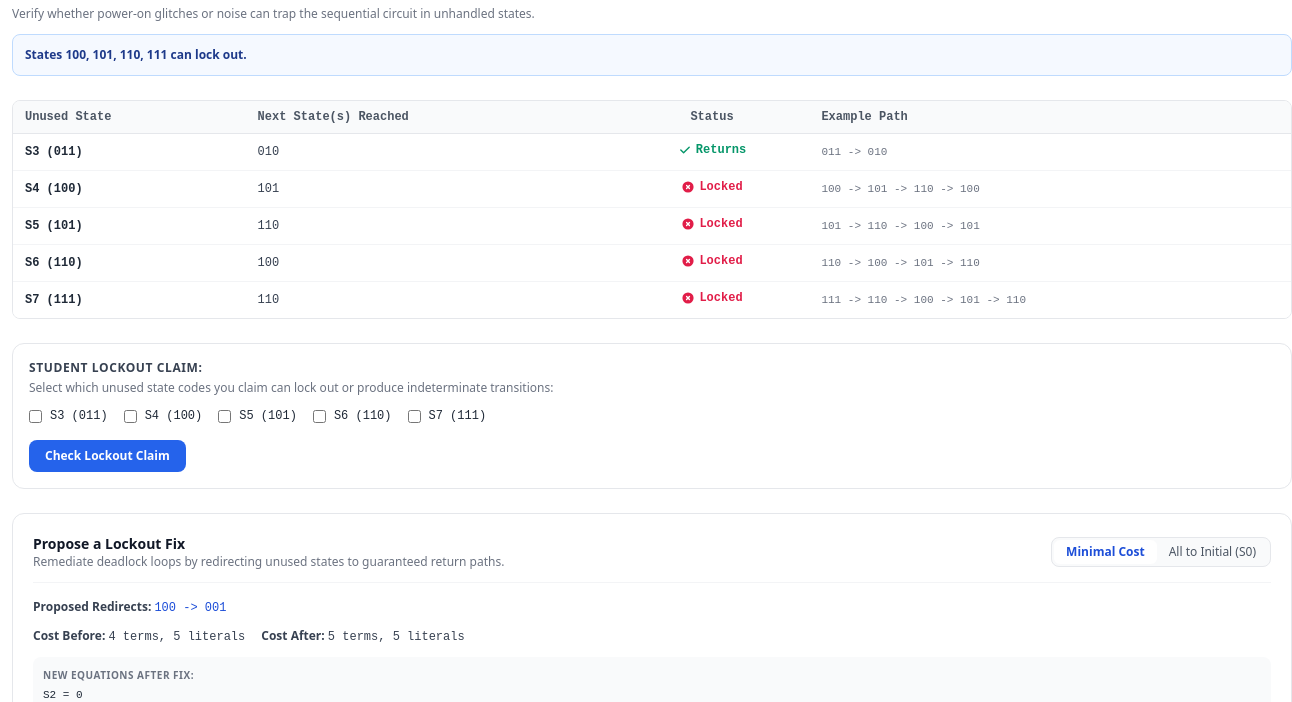
LockoutCheck component › "Keep as is" shows warning and allows verification
# Click claim for all locked states: S4, S5, S6, S7
Click the checkbox labelled "S4 (100)": coordinates (130, 416) [124,410,137,422]
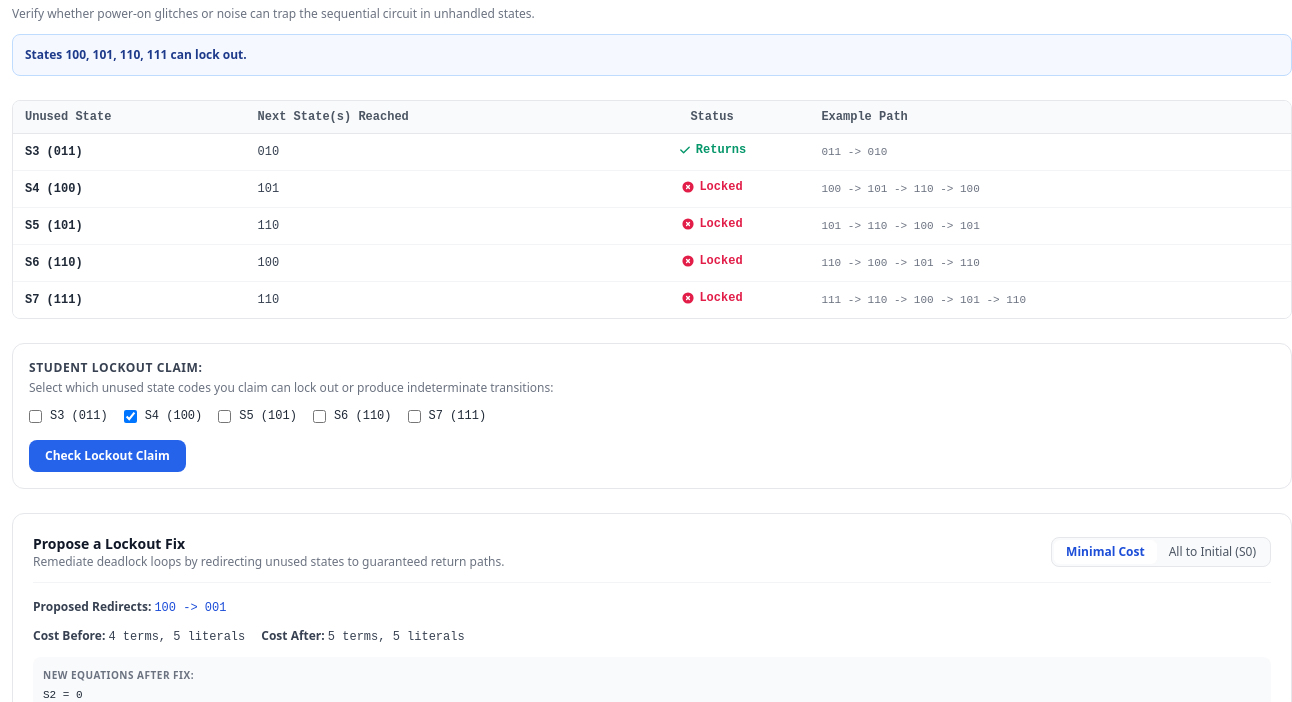
Click the checkbox labelled "S5 (101)": coordinates (225, 416) [218,410,231,422]
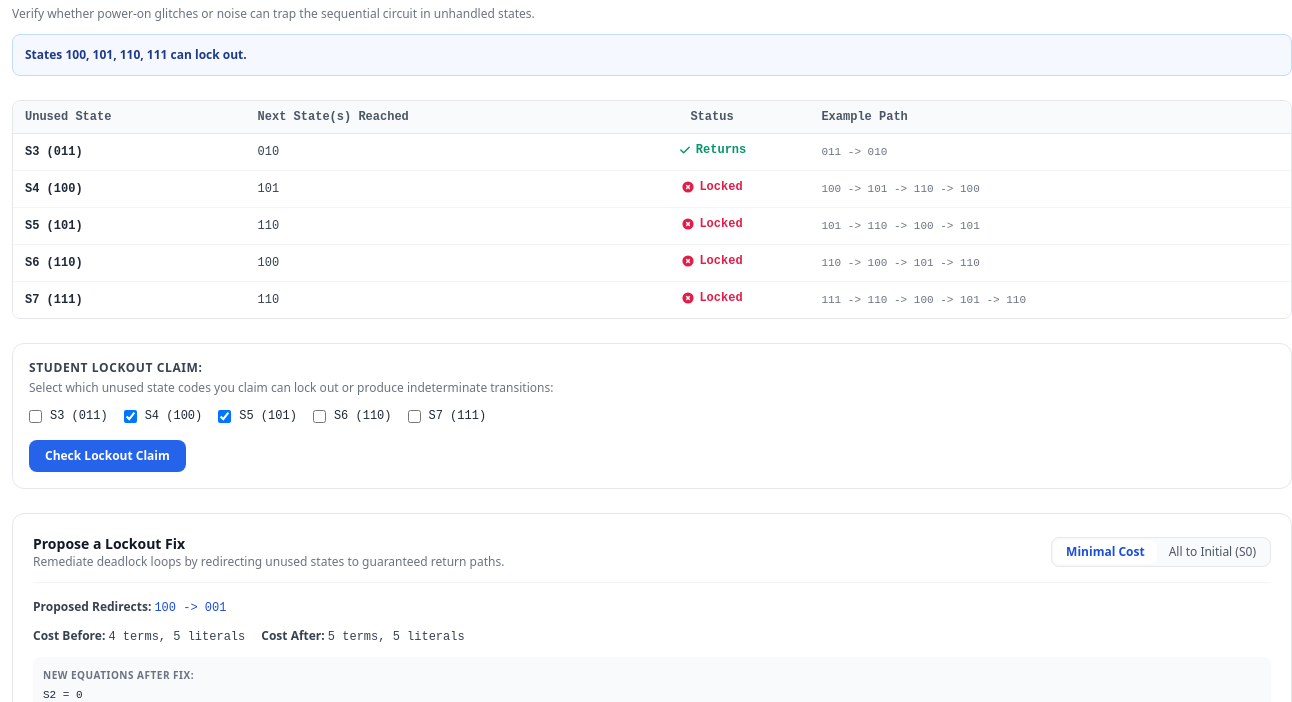
Click the checkbox labelled "S6 (110)": coordinates (319, 416) [313,410,326,422]
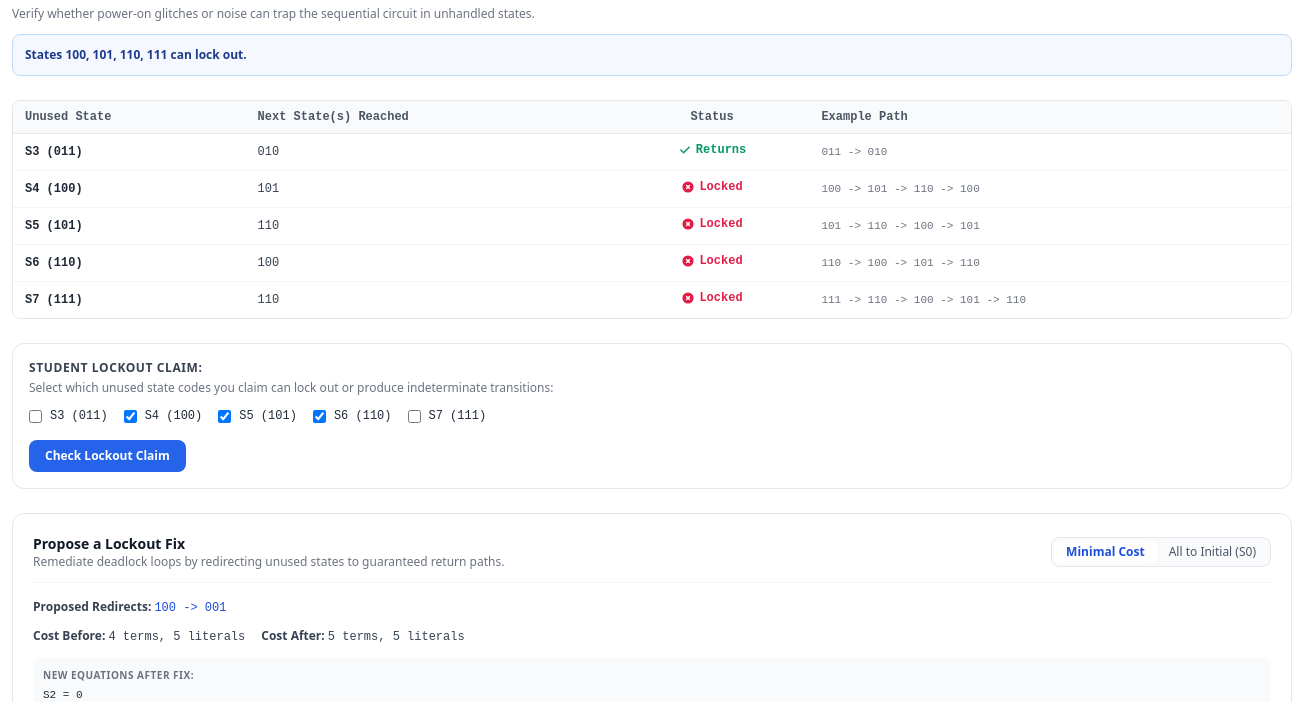
Click the checkbox labelled "S7 (111)": coordinates (414, 416) [408,410,420,422]
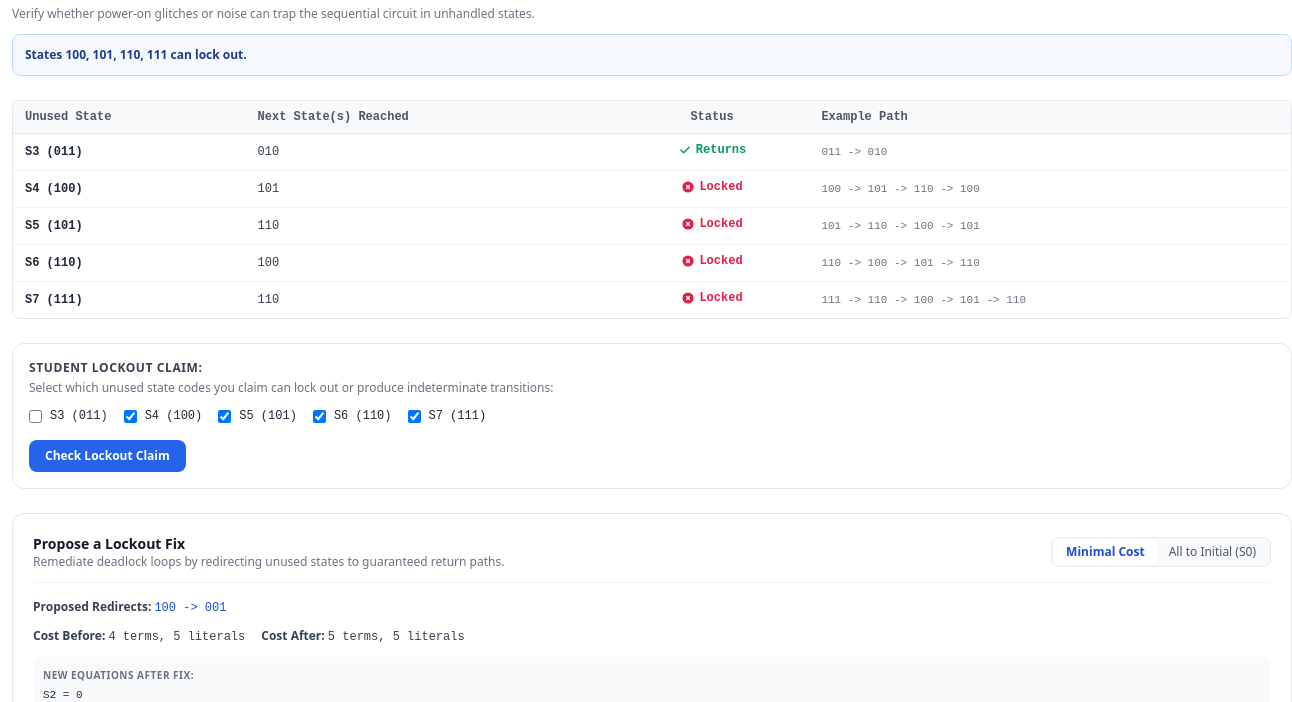
Click the button "Check Lockout Claim": coordinates (107, 456) [29,440,186,472]
(page scrolled)
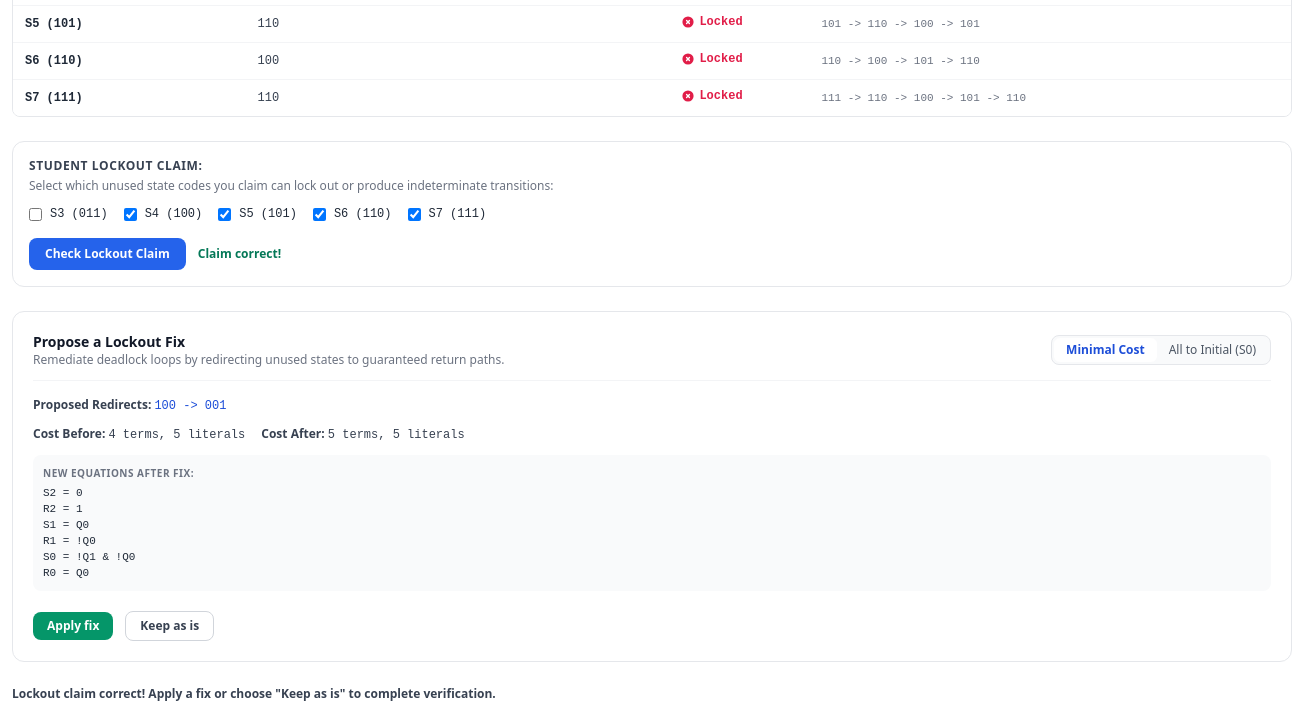
Click the button "Keep as is": coordinates (170, 626) [125,611,214,641]
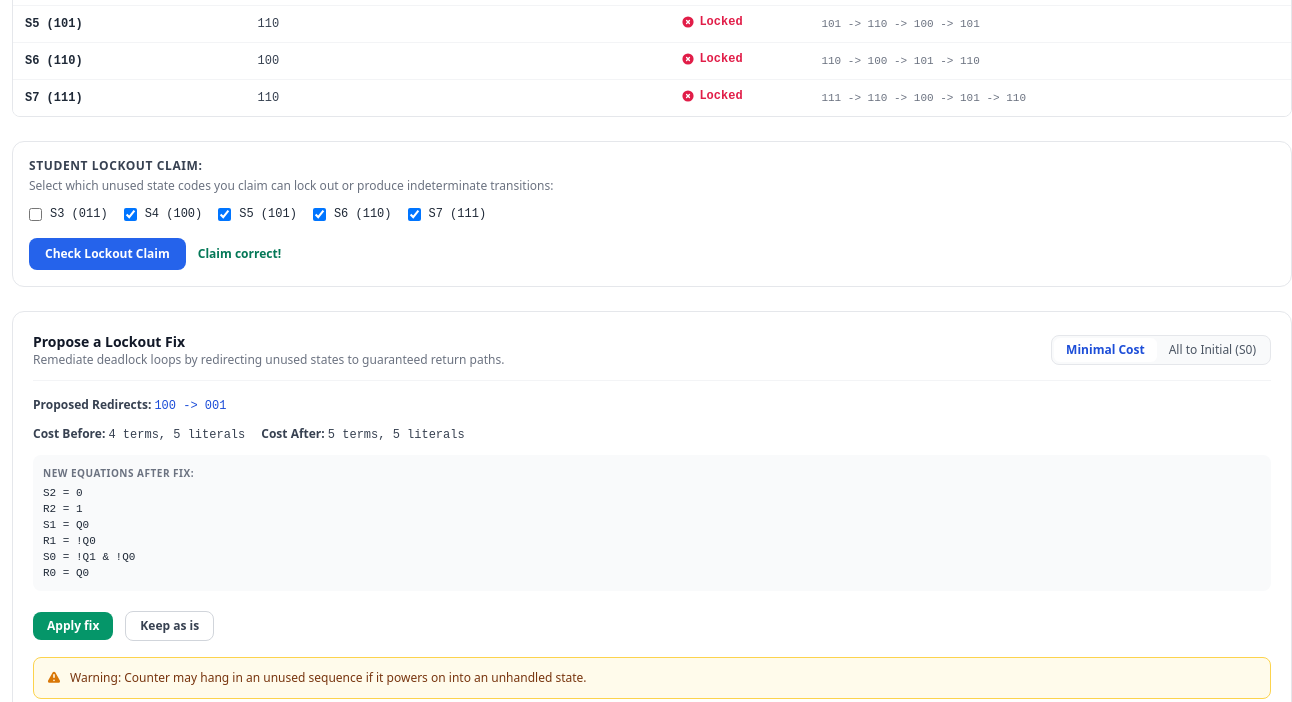
Expected: the text "Warning: Counter may hang in an unused sequence if it powers on into an unhandled state." is shown, [70,669,586,686]
